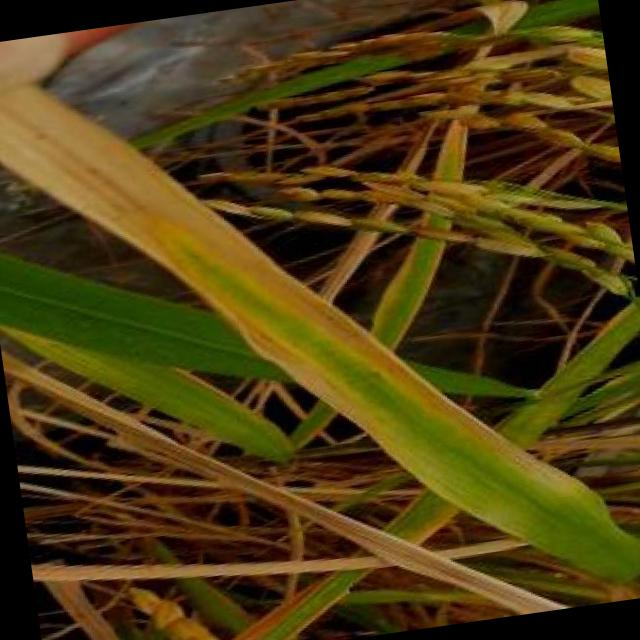Rice_Bacterial_Blight: (384, 356, 549, 570)
